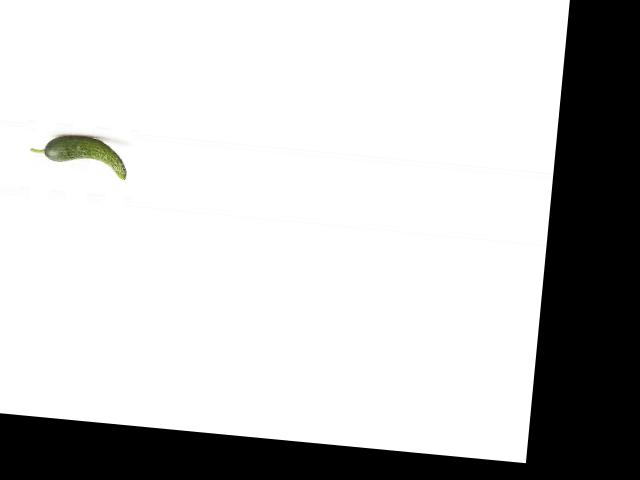cucumber: (28, 131, 129, 179)
